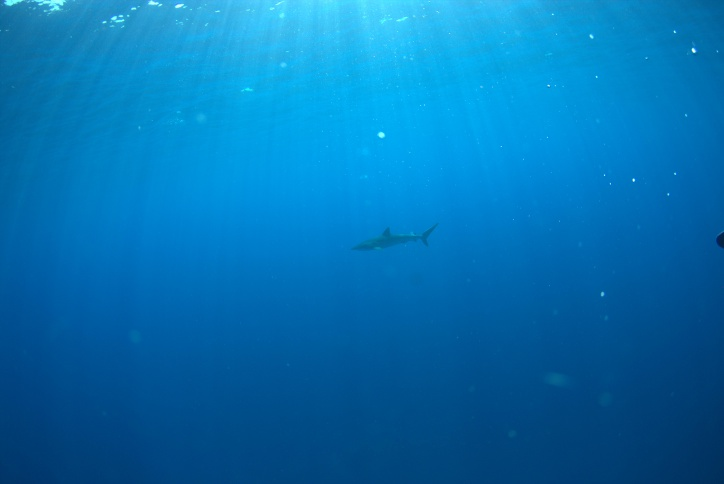Sedoso: (347, 220, 454, 252)
